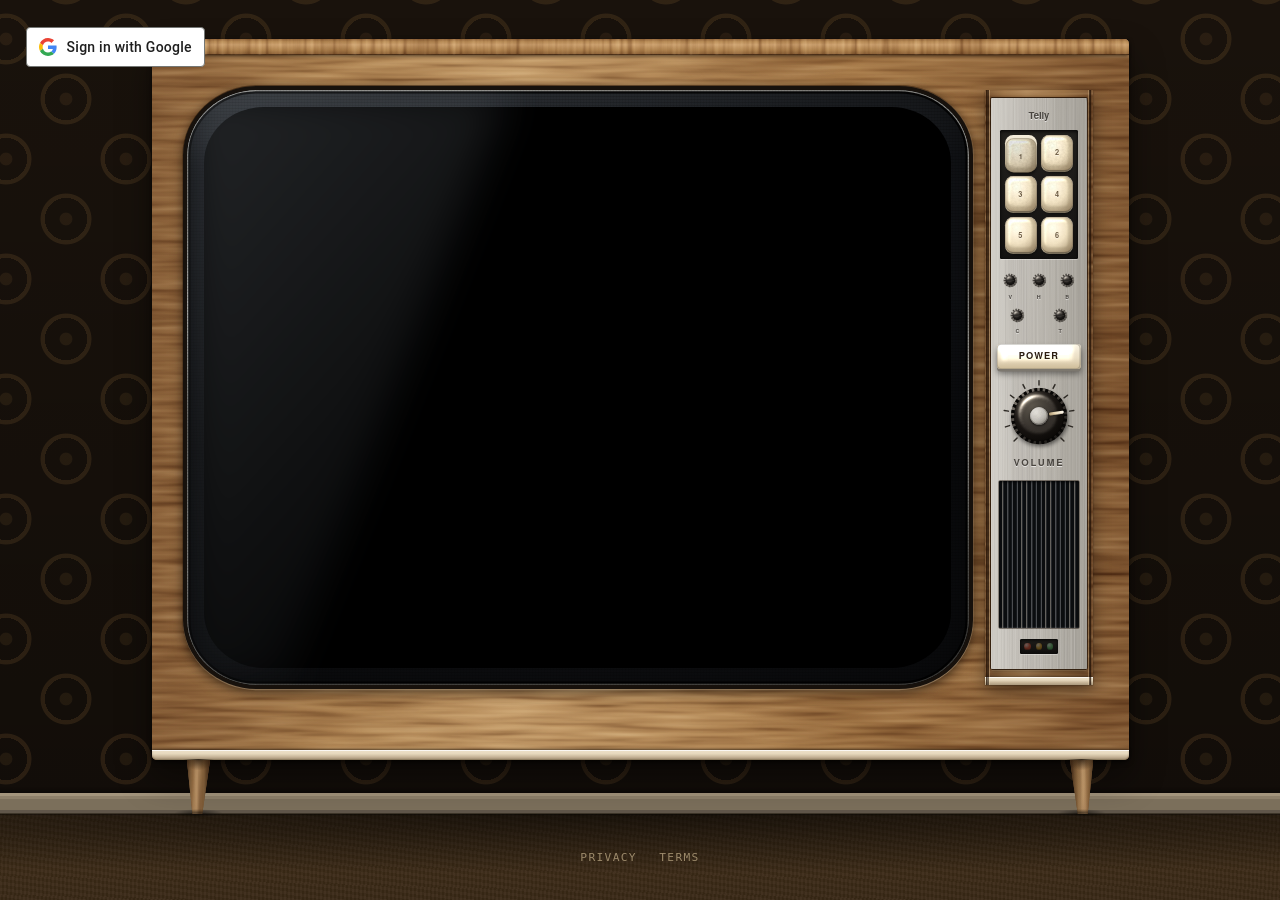
it: Channel › the Google session › takes the last error off the screen when signing out
Click the button "Sign in with Google": (115, 47) [26, 27, 205, 67]
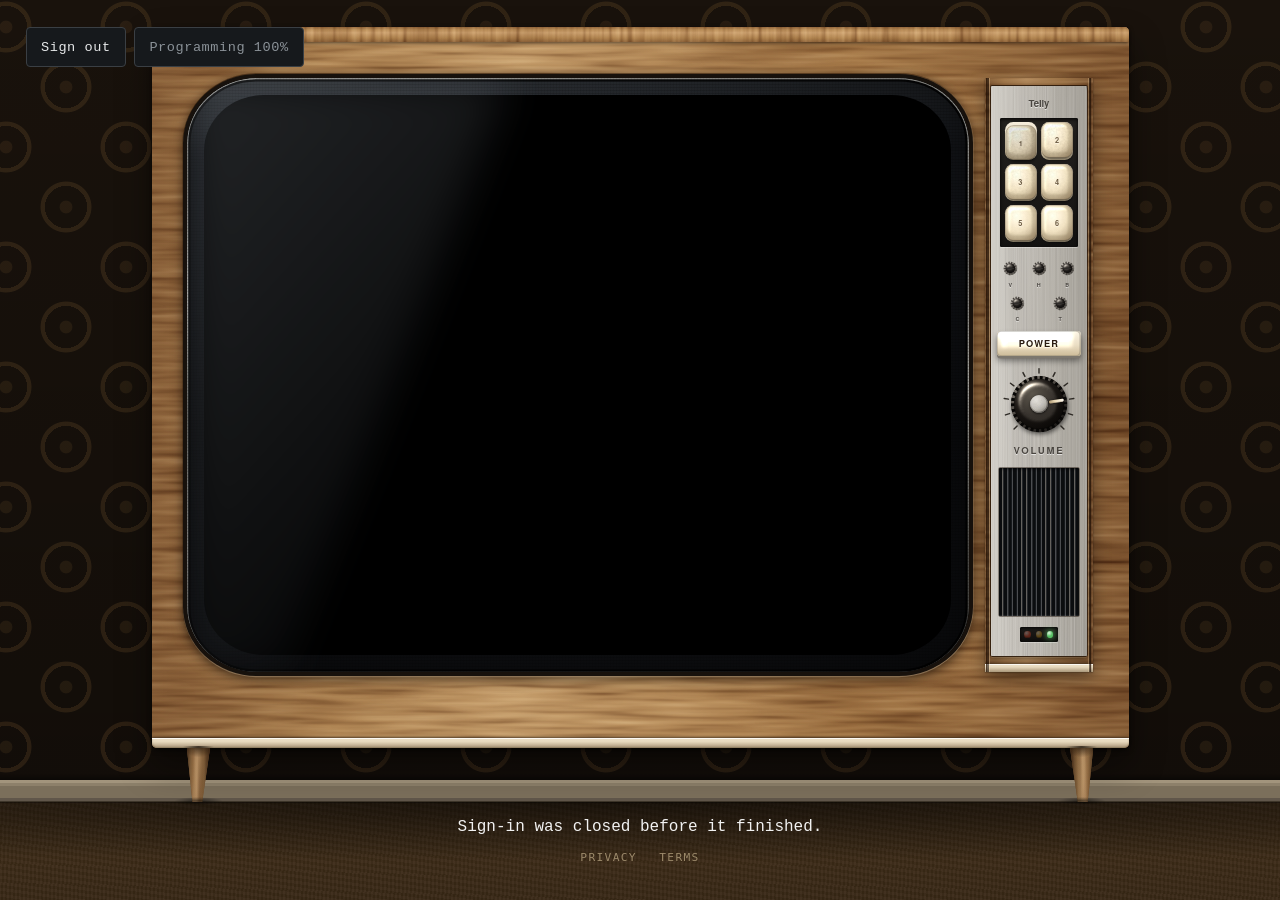
Expected: the message "Sign-in was closed before it finished." is shown, [458, 818, 822, 836]
Expected: the button "Sign out" is shown
Click the button "Sign out": (76, 47) [26, 27, 126, 67]
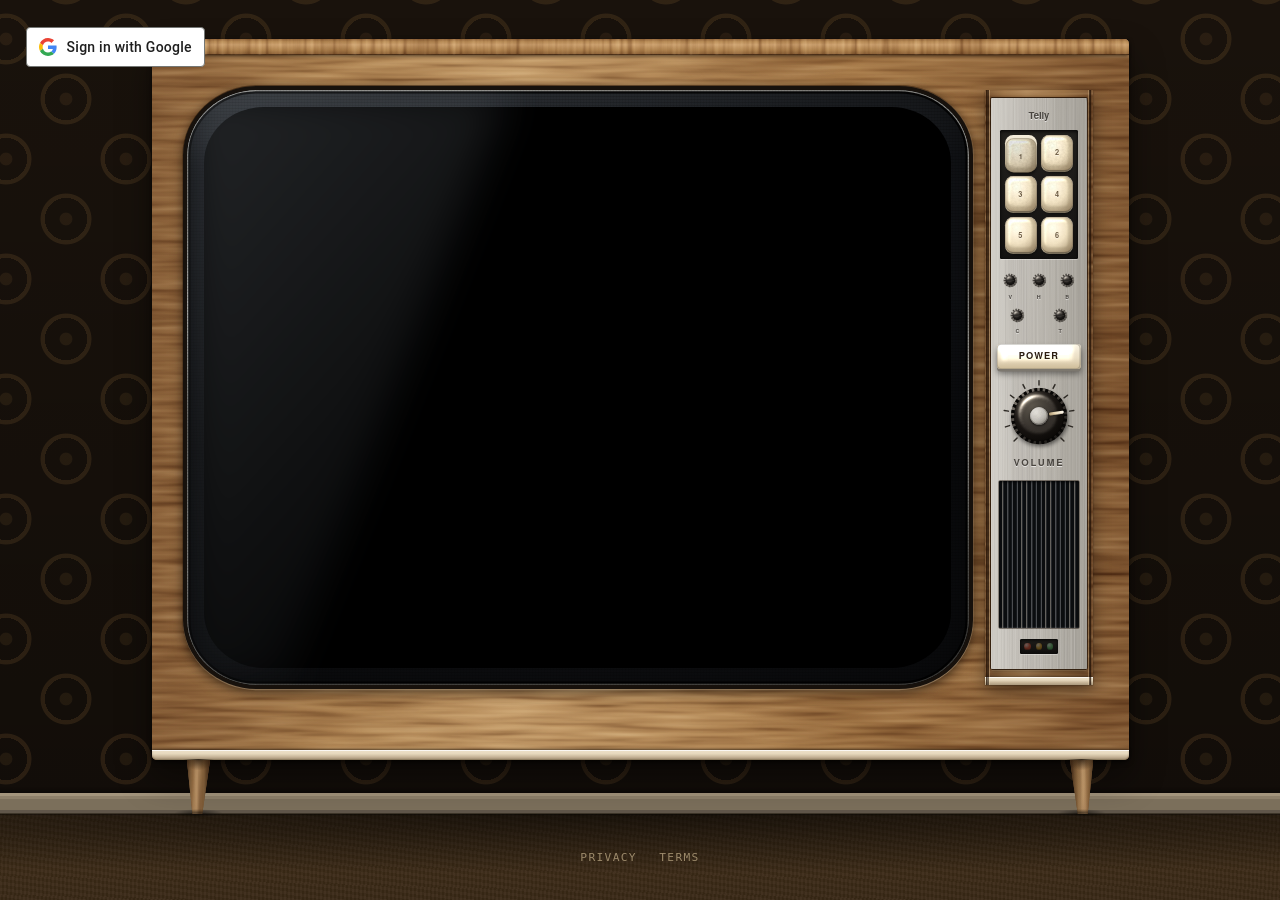
Expected: the button "Sign in with Google" is shown, [26, 27, 205, 67]
Expected: the message "Sign-in was closed before it finished." is gone
